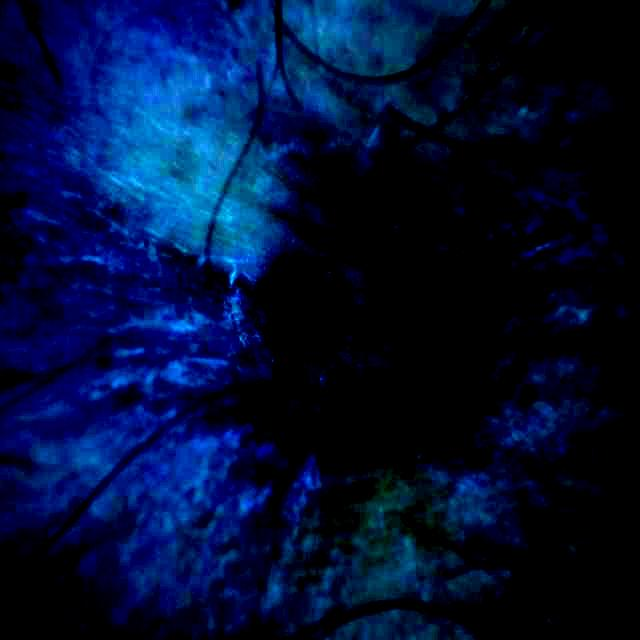NV: (211, 148, 470, 444)
